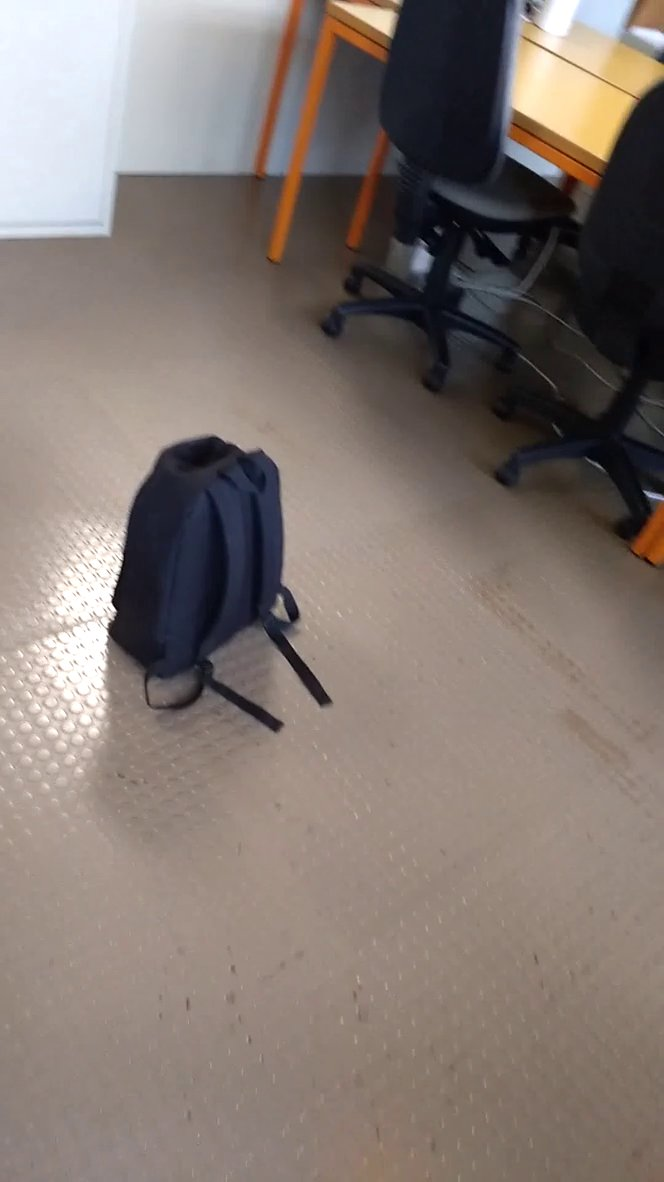bag: (102, 424, 341, 737)
chair: (349, 1, 582, 407)
